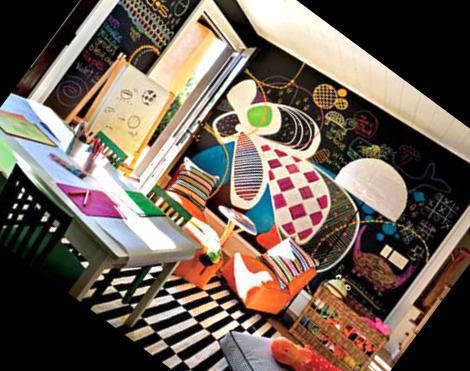Otro Obstaculo: (68, 49, 191, 176), (203, 299, 373, 371), (284, 272, 401, 371)
